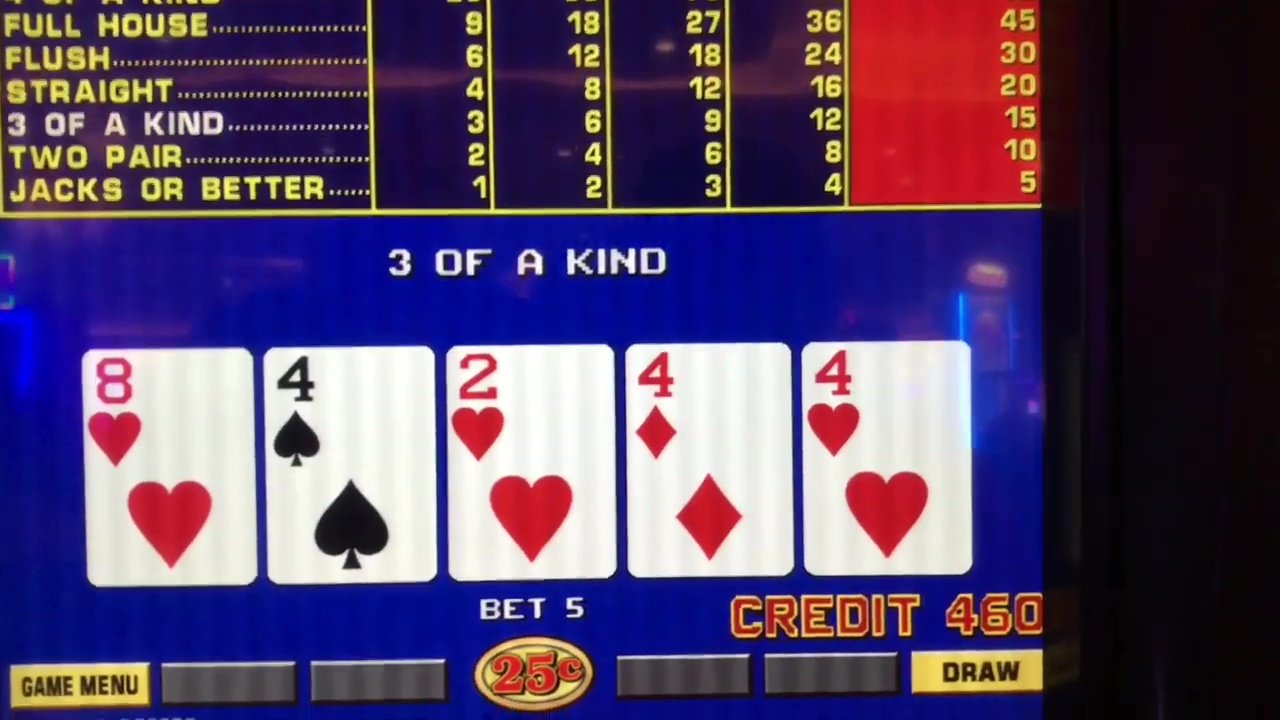D4: (631, 345, 789, 459)
H2: (451, 349, 610, 462)
H4: (807, 345, 971, 458)
H8: (90, 351, 253, 466)
S4: (273, 351, 429, 464)
